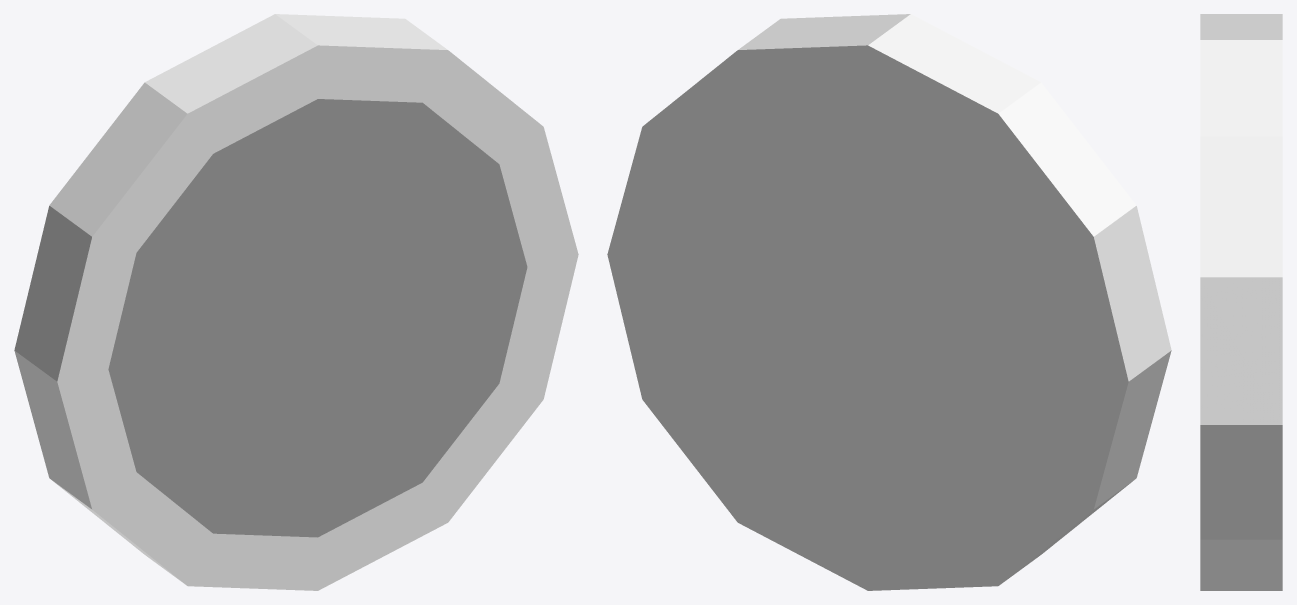
Rendered from FocoLuz03.fbx.
The picture shows the model from 3 angles, left to right: view 1: azimuth 30°, elevation 25°; view 2: azimuth 150°, elevation 25°; view 3: azimuth 270°, elevation 25°; orthographic projection. The views are drawn at different scales.
Visible parts, largest first — view 1: FocoLuz03; view 2: FocoLuz03; view 3: FocoLuz03.
Part boxes in pixels (x1,y1,x2,y2): FocoLuz03: (14,14,578,590); FocoLuz03: (607,14,1171,590); FocoLuz03: (1200,14,1282,590).
Bounding box in the file's own units: 71.41 × 71.41 × 10.19.
Materials: 2 (1 with a texture image).
